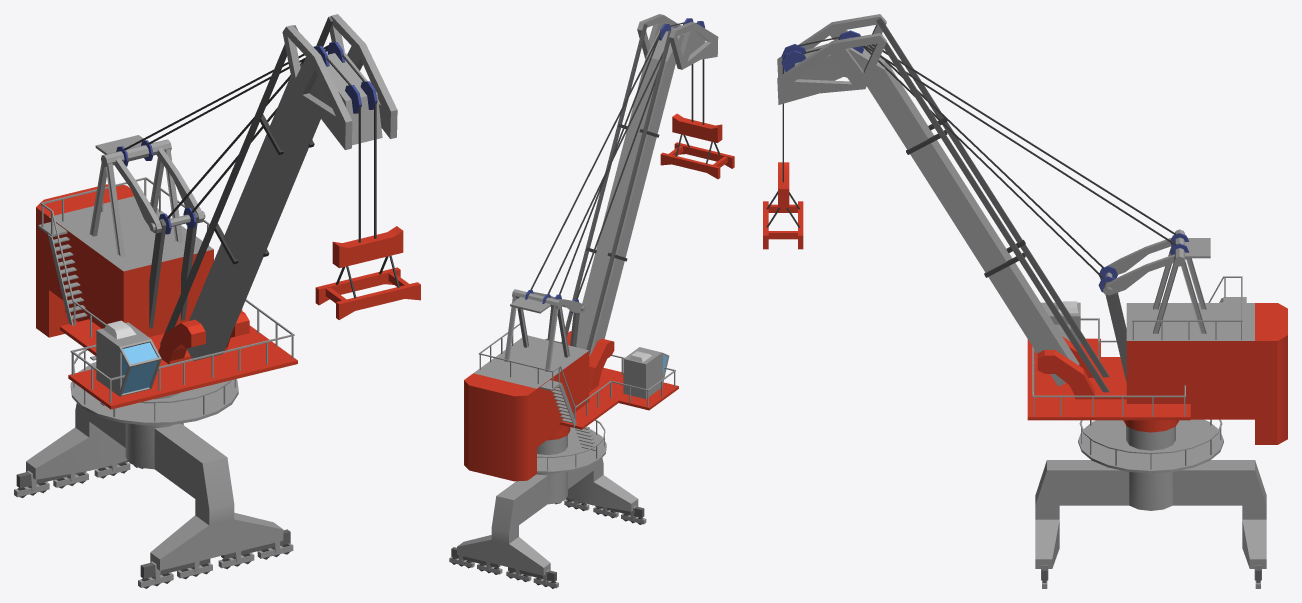
The model's file is Crane_1.fbx.
The picture shows the model from 3 angles, left to right: view 1: azimuth 30°, elevation 25°; view 2: azimuth 150°, elevation 25°; view 3: azimuth 270°, elevation 25°; orthographic projection. The views are drawn at different scales.
Parts seen in each view (by area): view 1: Crane_1_Head, Crane_1; view 2: Crane_1_Head, Crane_1; view 3: Crane_1_Head, Crane_1.
Boxes of the visible parts, x1=… form: Crane_1_Head: x1=36, y1=14, x2=420, y2=409; Crane_1: x1=14, y1=349, x2=293, y2=588; Crane_1_Head: x1=464, y1=14, x2=734, y2=481; Crane_1: x1=449, y1=419, x2=646, y2=588; Crane_1_Head: x1=763, y1=14, x2=1287, y2=444; Crane_1: x1=1035, y1=419, x2=1266, y2=588.
Size of the model in its own units: 2.12 by 6.6 by 5.87.
